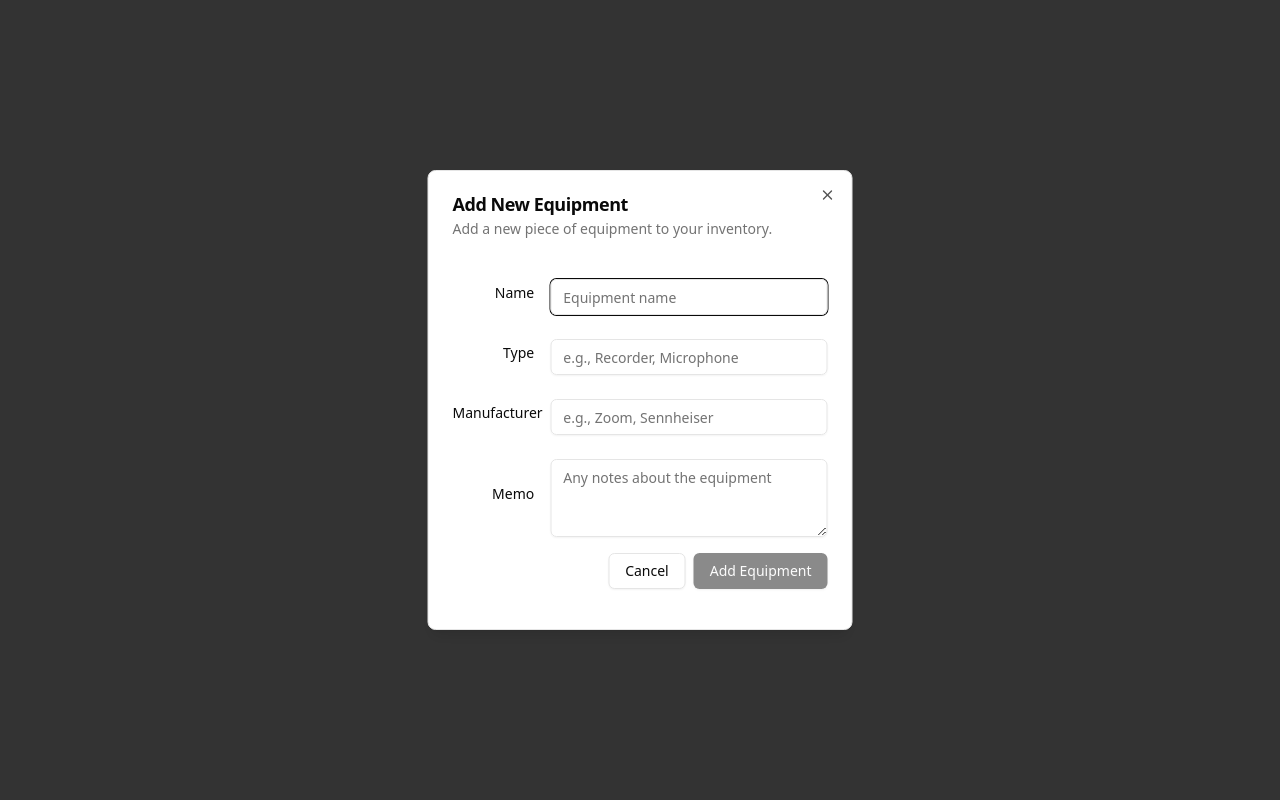
Test: EquipmentFormModal › shows generic API error message for other failures
Type "Test Name" into the field labelled "Name" at (689, 297), box [550, 279, 828, 315]
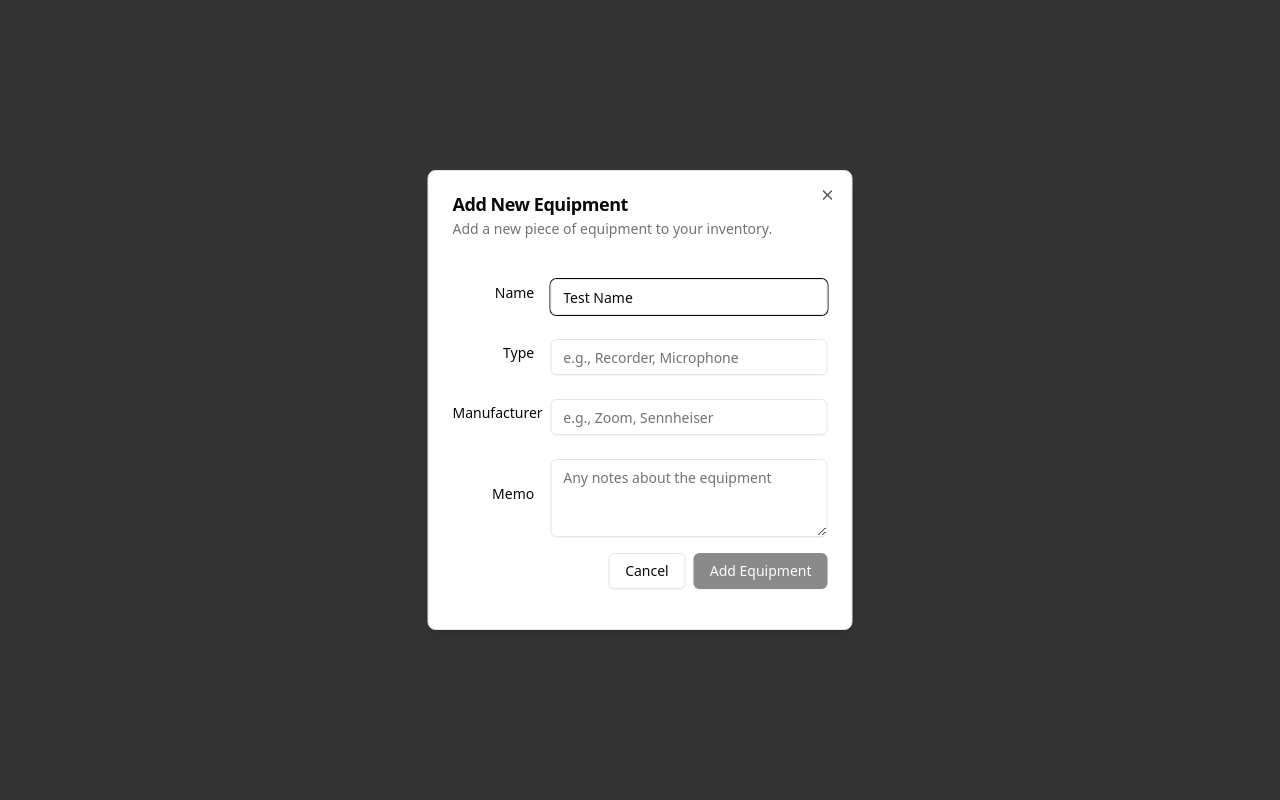
Type "Test Type" into the field labelled "Type" at (689, 357), box [550, 339, 828, 375]
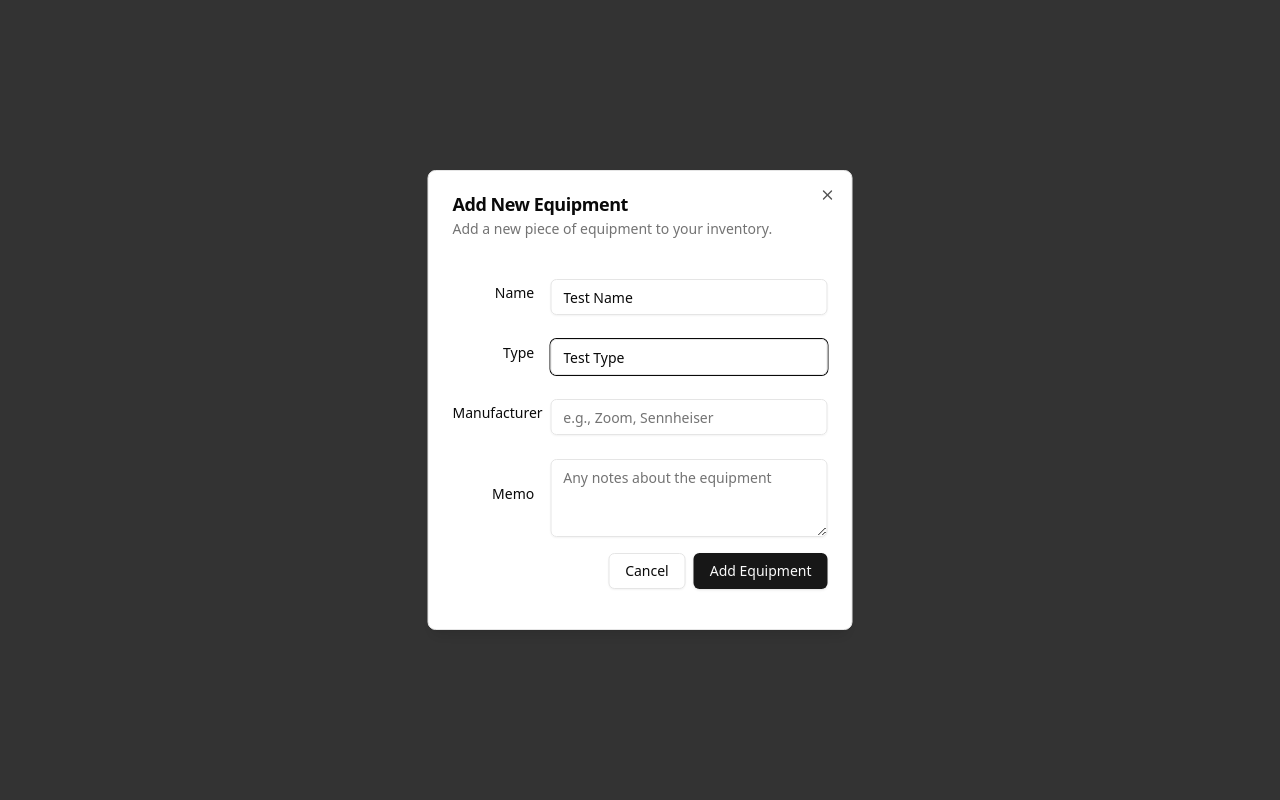
Click the button "Add Equipment" at (761, 571), box [694, 553, 828, 589]
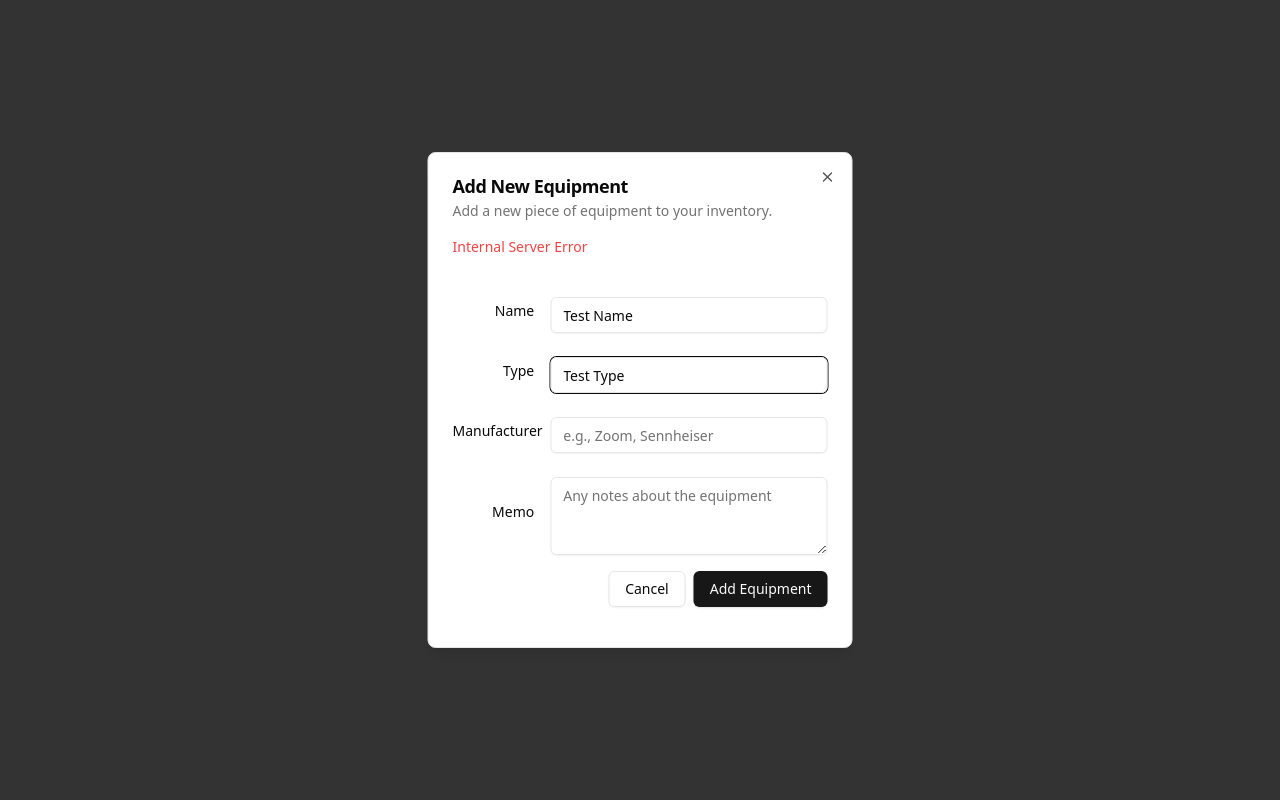
Expected: the text "Internal Server Error" is shown, [452, 237, 588, 256]
